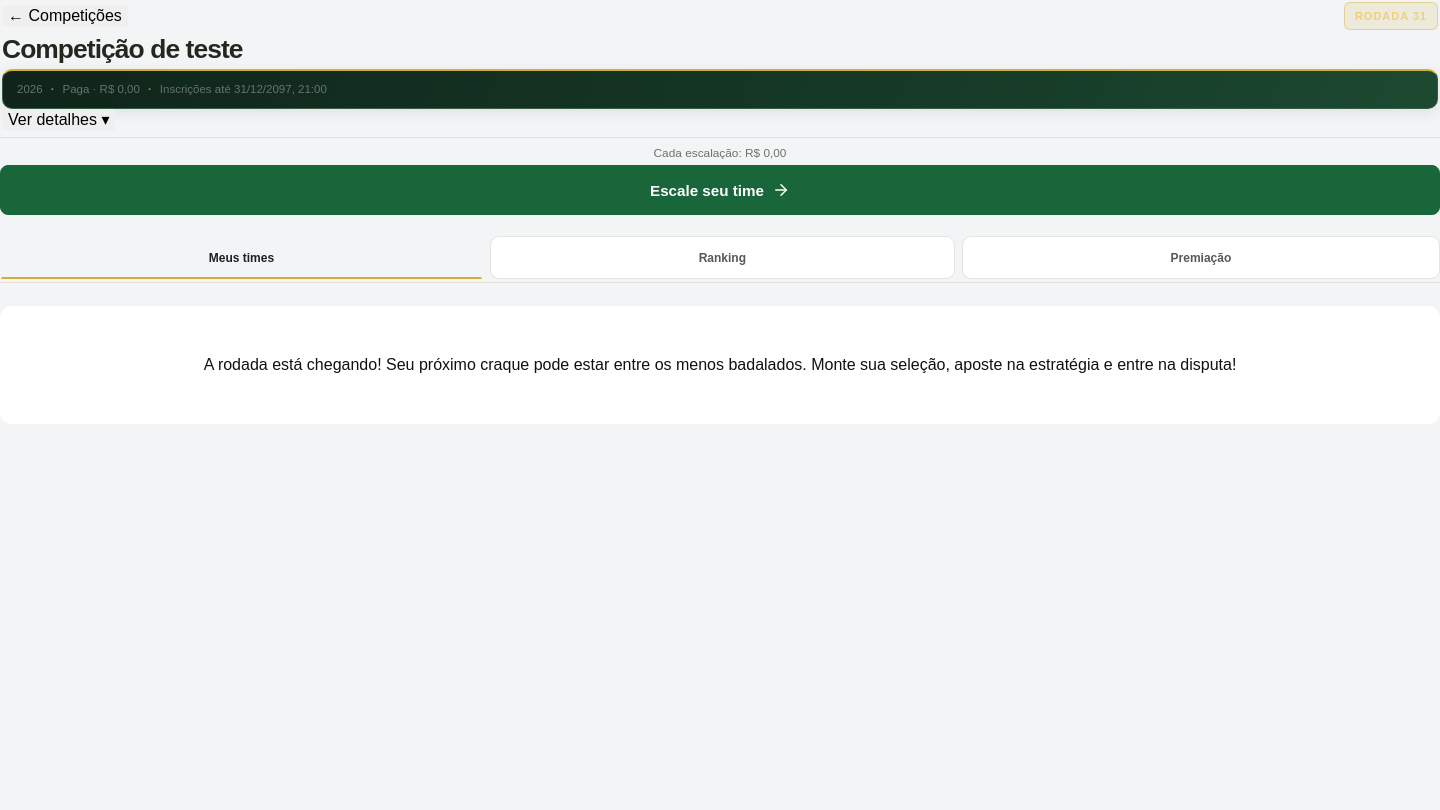
Test case: saves paid teams without registering or charging
The image size is (1440, 810).
Click the button "Escale seu time" at (720, 190), box left=0, top=165, right=1439, bottom=215
(page scrolled)
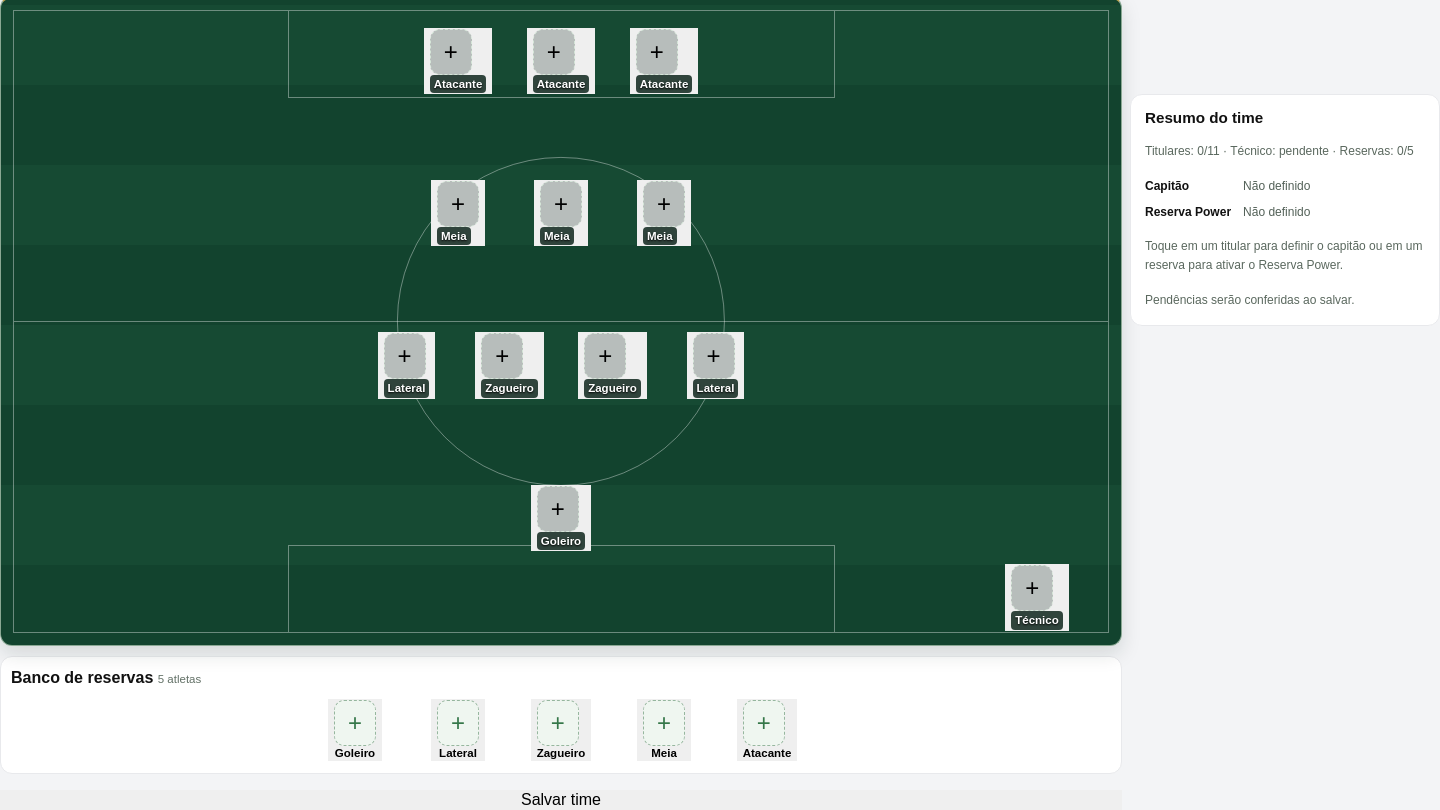
Click the button "Salvar time" at (561, 800), box left=0, top=790, right=1122, bottom=809
(page scrolled)
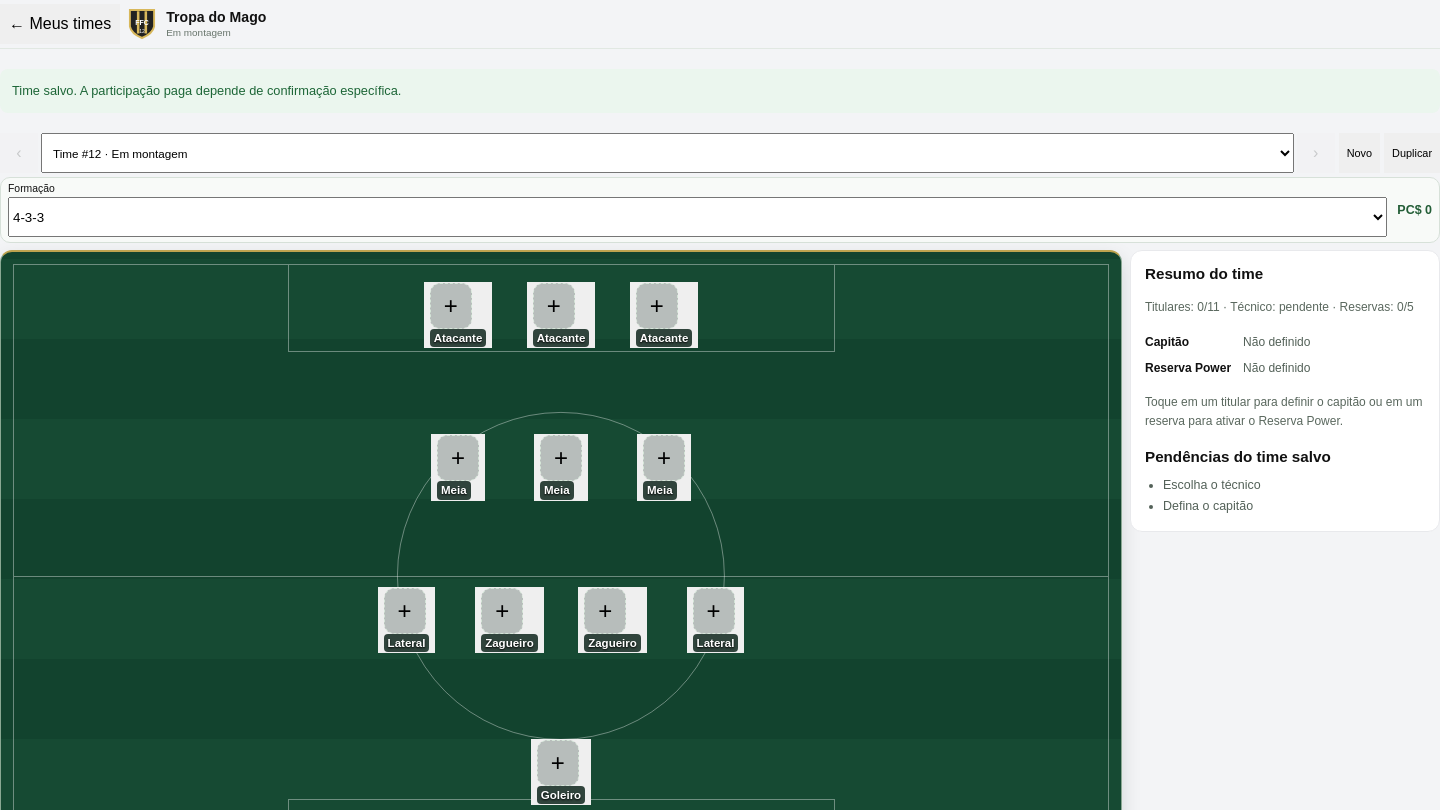
Check: the text "Time salvo. A participação paga depende de confirmação específica." is shown, box left=0, top=69, right=1439, bottom=113
